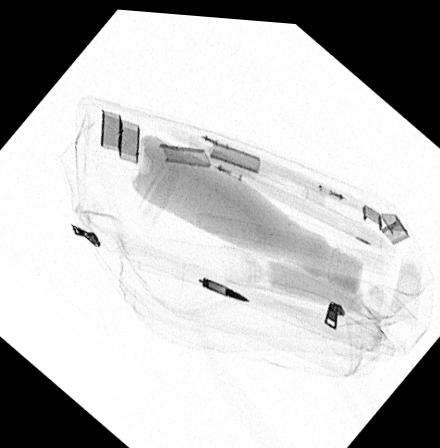Bullet: (203, 272, 250, 298)
